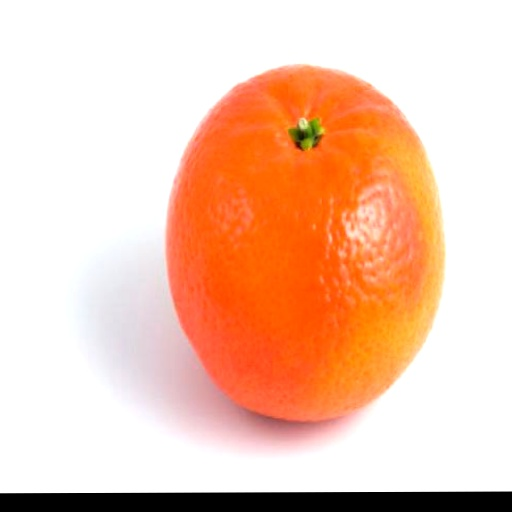fruit: (166, 65, 443, 420)
